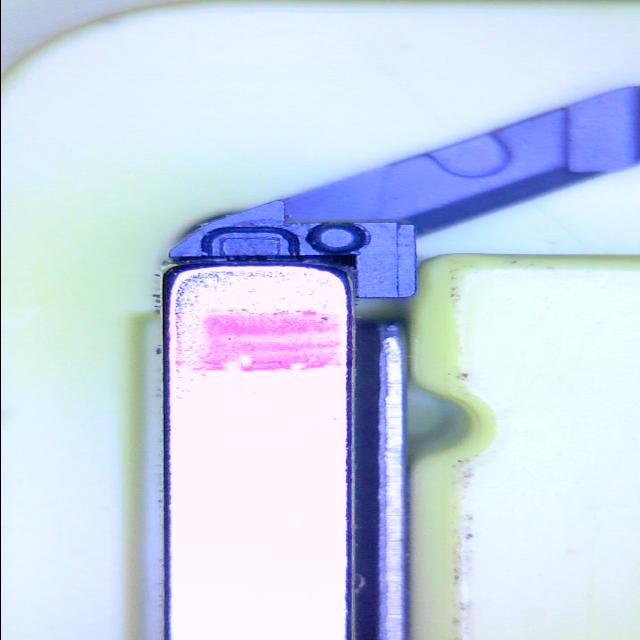lacking: (200, 227, 302, 260)
